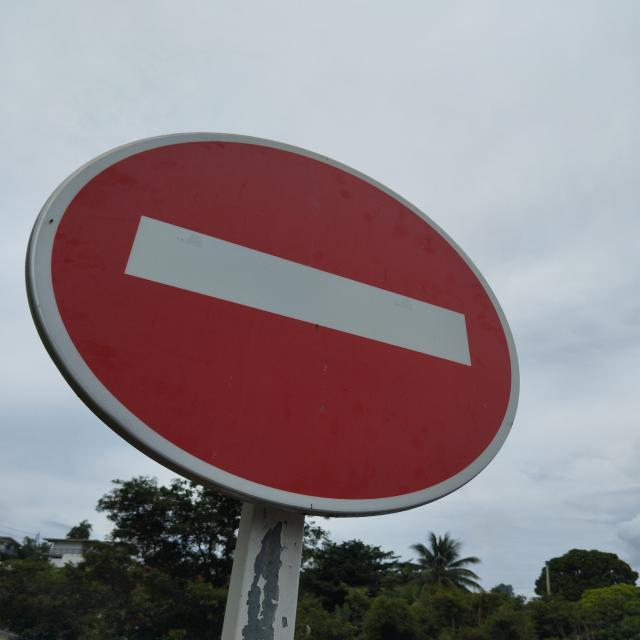Sens-Interdit: (29, 127, 525, 518)
